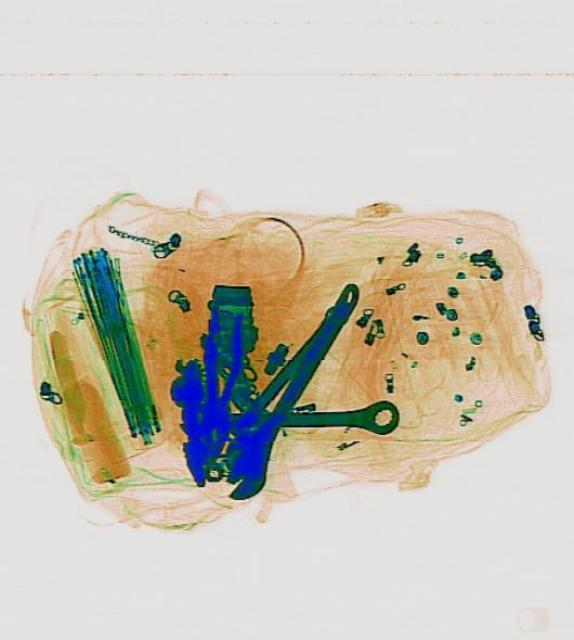Pliers: (192, 304, 243, 458)
Wrench: (207, 272, 375, 510)
